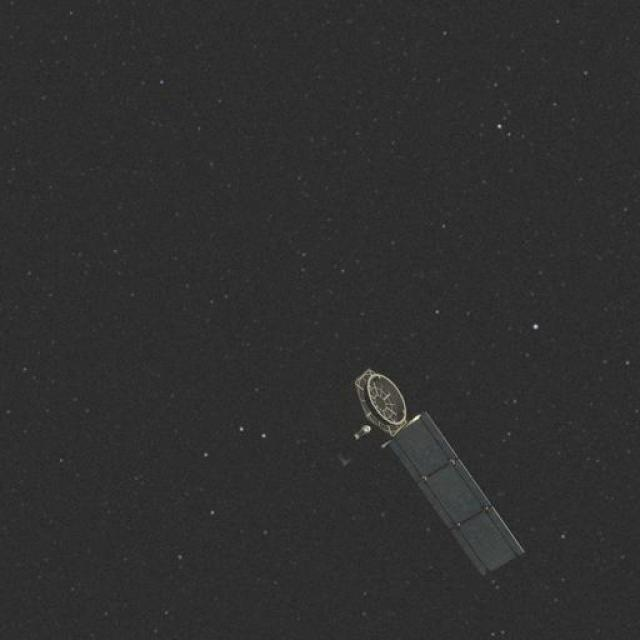earth_observation_sat_1: (311, 335, 472, 513)
